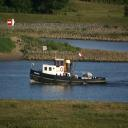tugboat: (30, 46, 109, 88)
